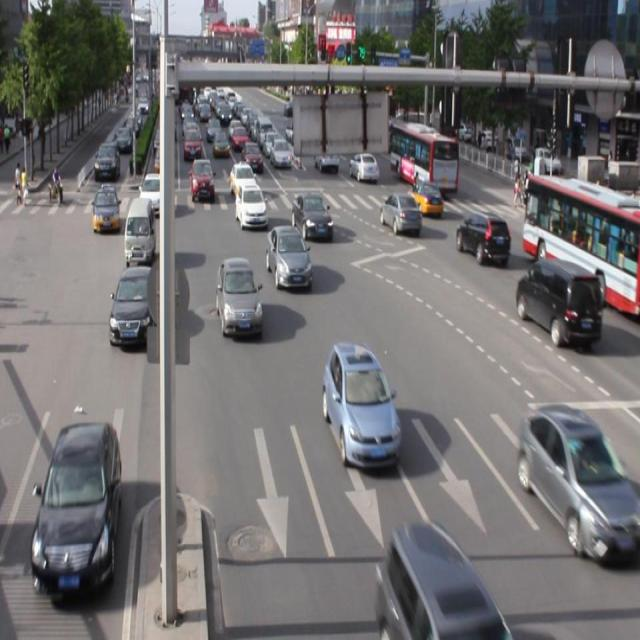car: (518, 402, 640, 564), (31, 419, 122, 599), (378, 520, 507, 640), (322, 344, 401, 468), (515, 256, 602, 348), (216, 256, 264, 341), (108, 264, 155, 348), (455, 210, 510, 266), (267, 223, 312, 291), (292, 191, 333, 242)
truck: (124, 198, 155, 264)
van: (523, 174, 640, 312)
